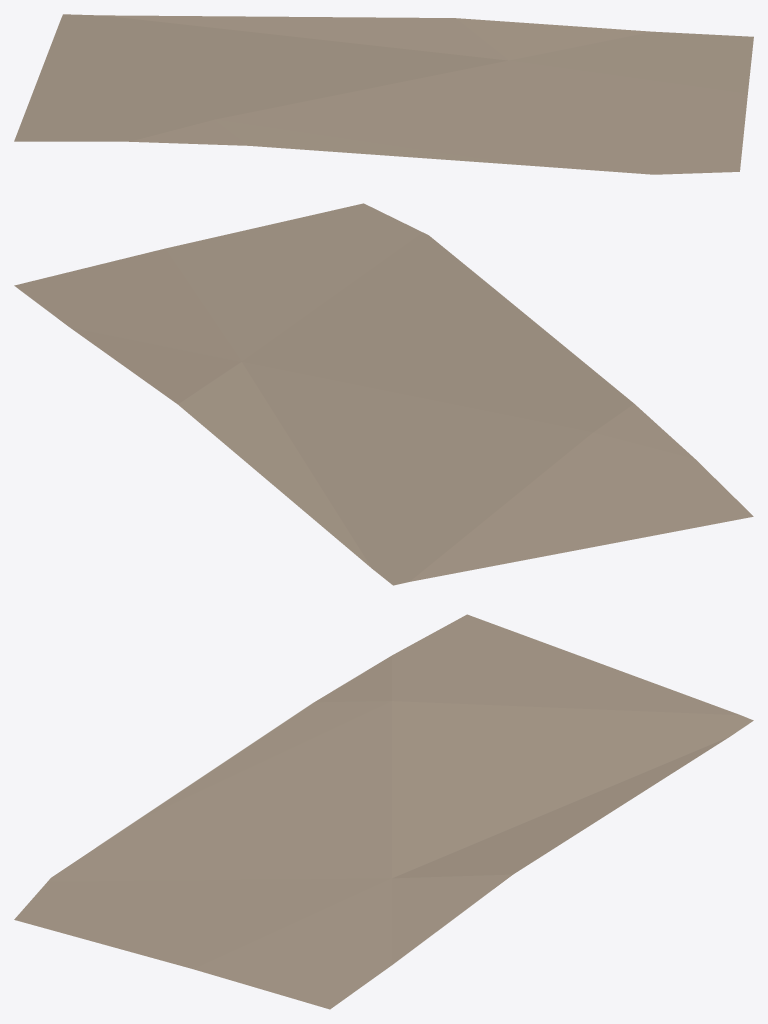
The model's file is farm_-4_16_soil.glb.
3 views of the same model, one above another, from view 1: azimuth 30°, elevation 25°; view 2: azimuth 150°, elevation 25°; view 3: azimuth 270°, elevation 25° (orthographic). The views are drawn at different scales.
Visible parts, largest first — view 1: geometry_0; view 2: geometry_0; view 3: geometry_0.
Boxes of the visible parts, box(x1,y1,x2,y2) form: geometry_0: box(14, 14, 753, 174); geometry_0: box(14, 203, 753, 585); geometry_0: box(14, 614, 753, 1009).
Size of the model in its own units: 185 by 5.74 by 154.
